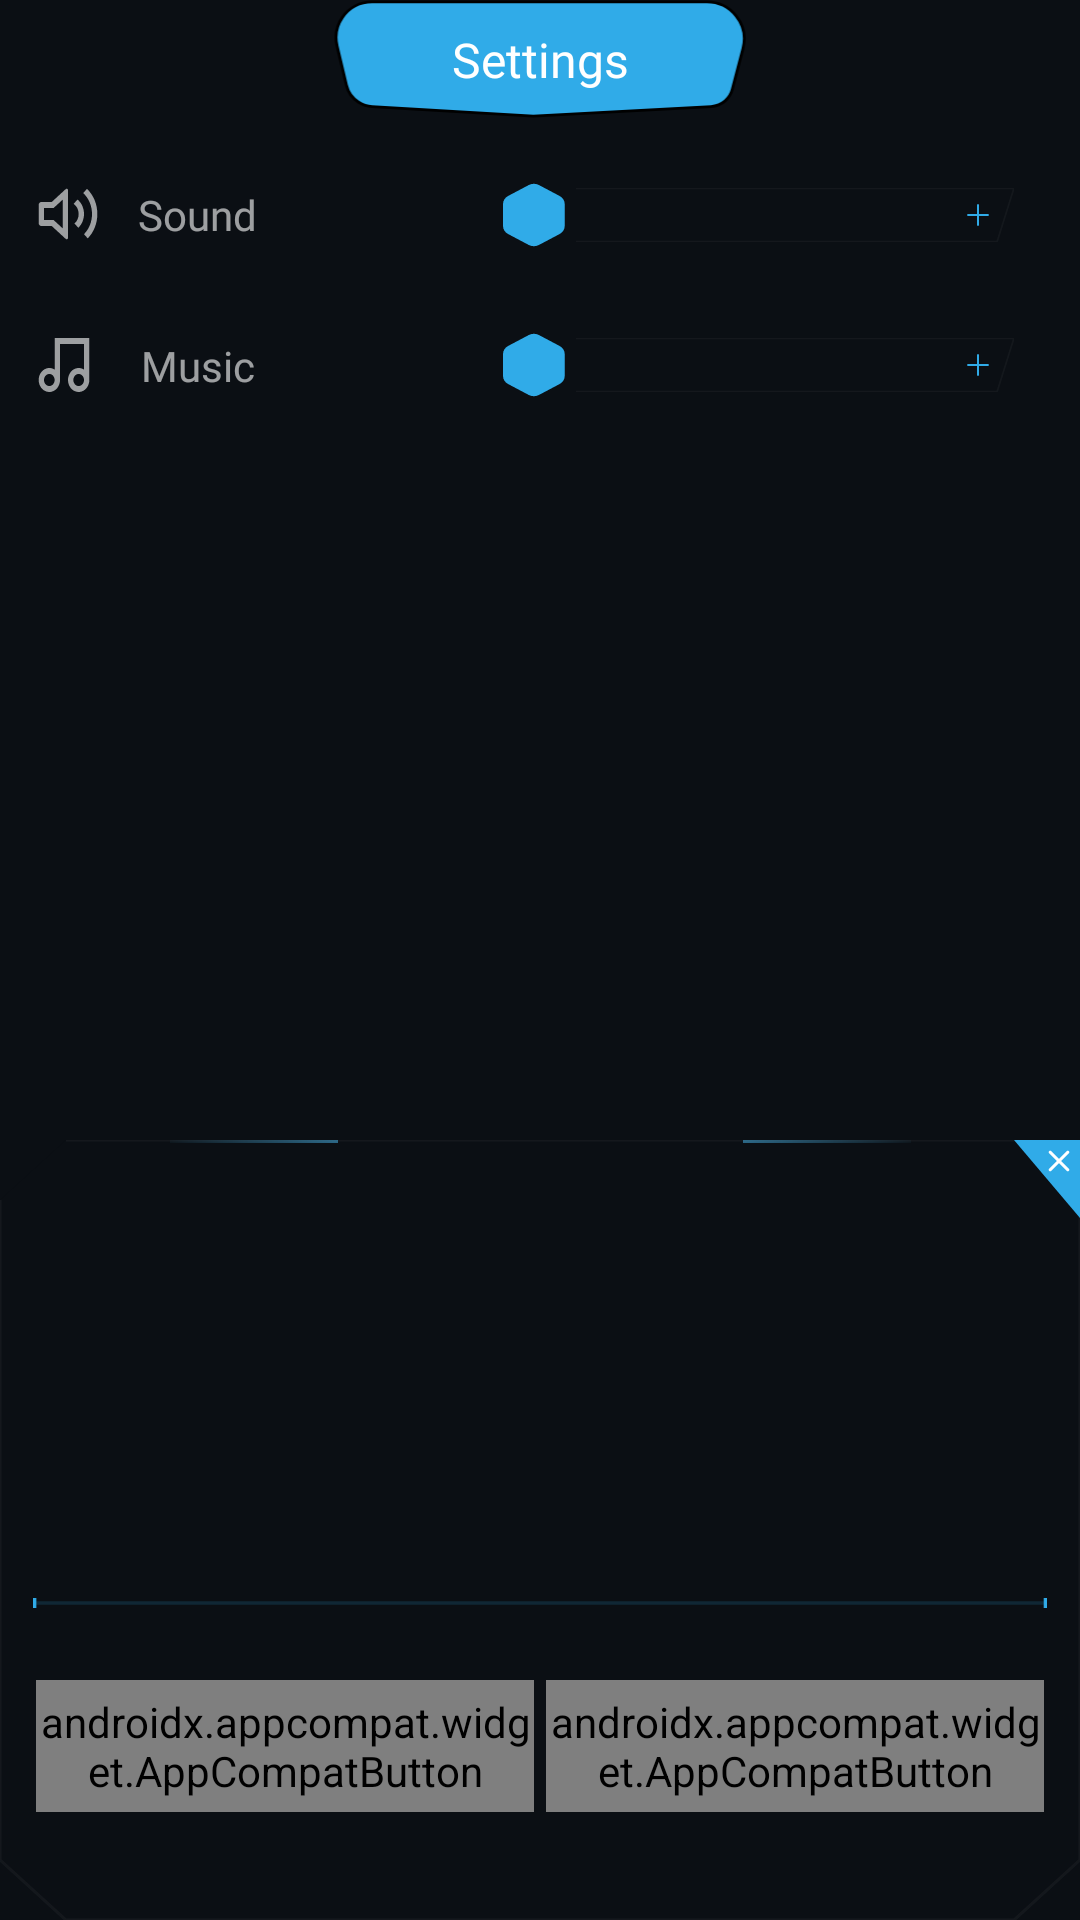

Named icons in this screenshot (1080px×1920px) and their centers, point (x, y):
close icon: point (1047, 1179)
speaker: point (68, 214)
